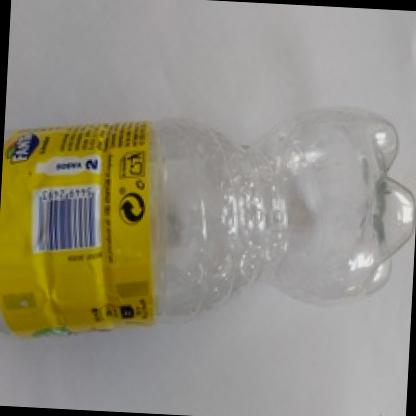plastic_bottles: (0, 89, 410, 362)
